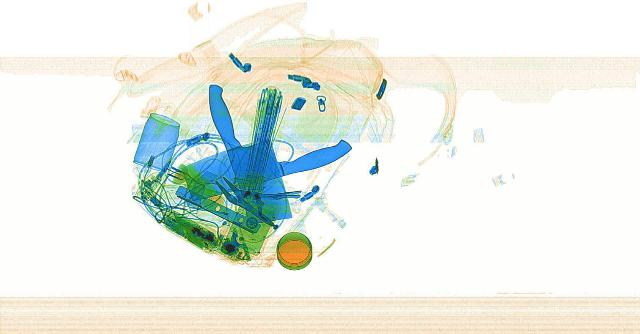Knife: (155, 123, 363, 201), (204, 81, 290, 221)
